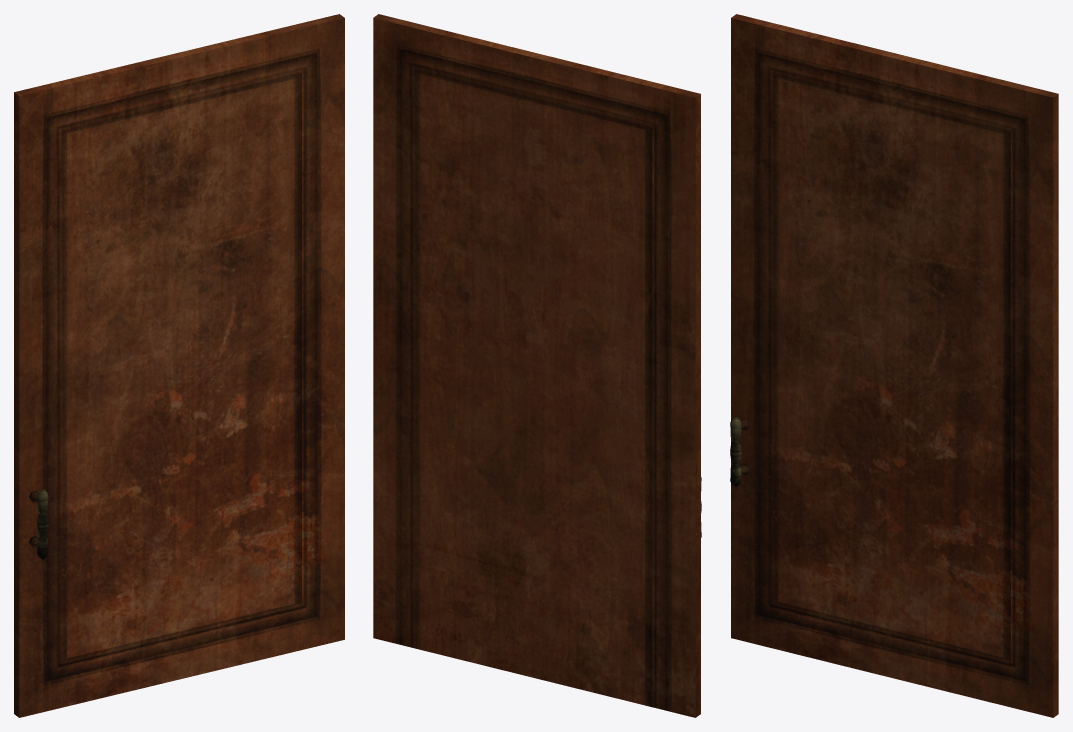
The model's file is closetRightDoor01_a.FBX.
3 views of the same model, side by side, from view 1: azimuth 30°, elevation 25°; view 2: azimuth 150°, elevation 25°; view 3: azimuth 330°, elevation 25° (orthographic).
Parts seen in each view (by area): view 1: SM_ClosetRightDoor01; view 2: SM_ClosetRightDoor01; view 3: SM_ClosetRightDoor01.
Part boxes in pixels (box(x1,y1,x2,y2)): SM_ClosetRightDoor01: box(14, 14, 344, 717); SM_ClosetRightDoor01: box(373, 14, 701, 717); SM_ClosetRightDoor01: box(730, 14, 1058, 717).
Bounding box in the file's own units: 62.6 × 115 × 5.86.
Materials: 1 (1 with a texture image).
